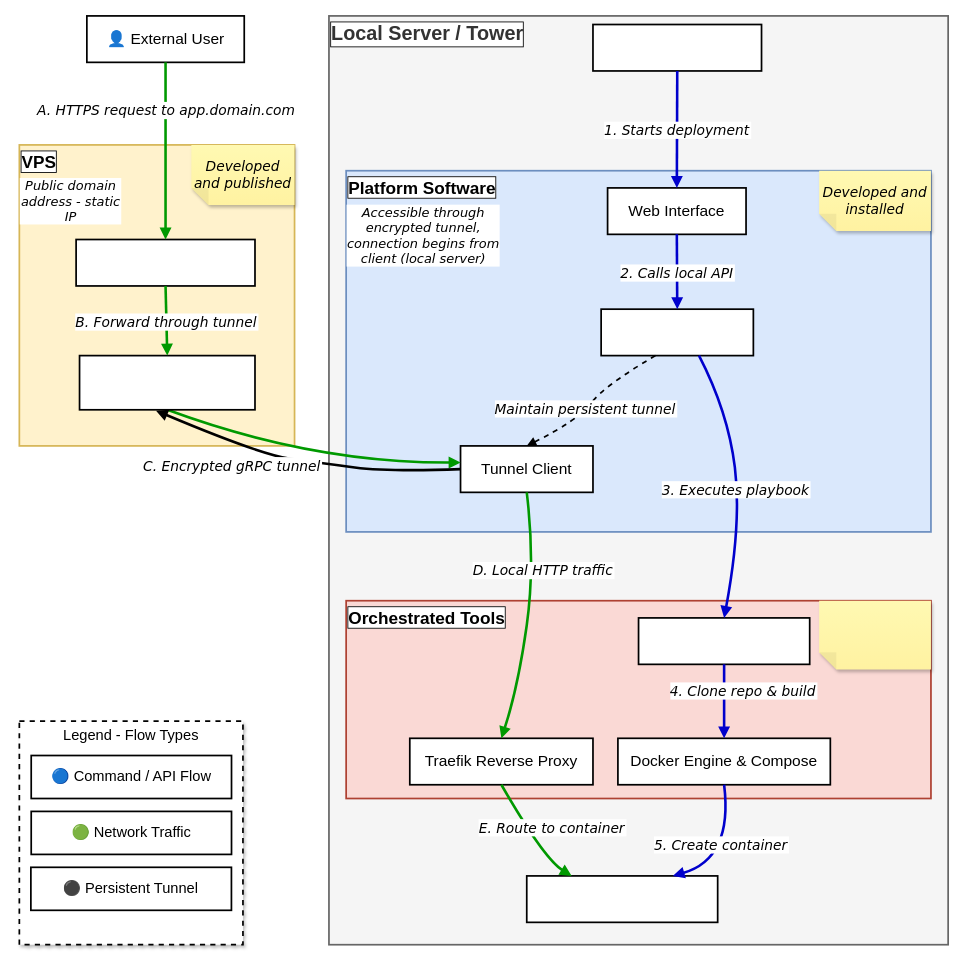
Image size: 963x966. Some labels were removed from this diagram. Each missing label, with the centre of its shape:
".NET API Service" goes at pixel 677 332.
"Ansible Automation" goes at pixel 723 641.
"Application Containers" goes at pixel 621 899.
"Caddy Reverse Proxy" goes at pixel 165 262.
"Installed by Platform Software installation" goes at pixel 875 636.
"Tunnel Server" goes at pixel 166 382.
"👨‍💻 Developer User" goes at pixel 677 47.
